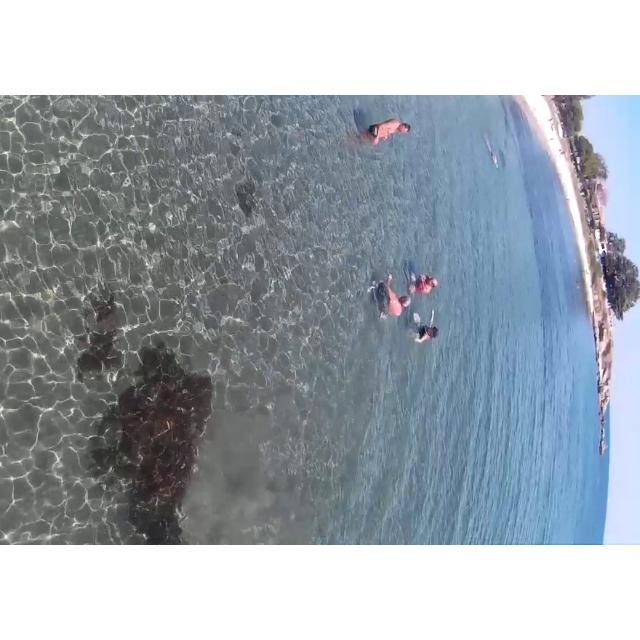human: (374, 263, 408, 329), (362, 107, 410, 152), (412, 304, 442, 354), (408, 264, 441, 300)
